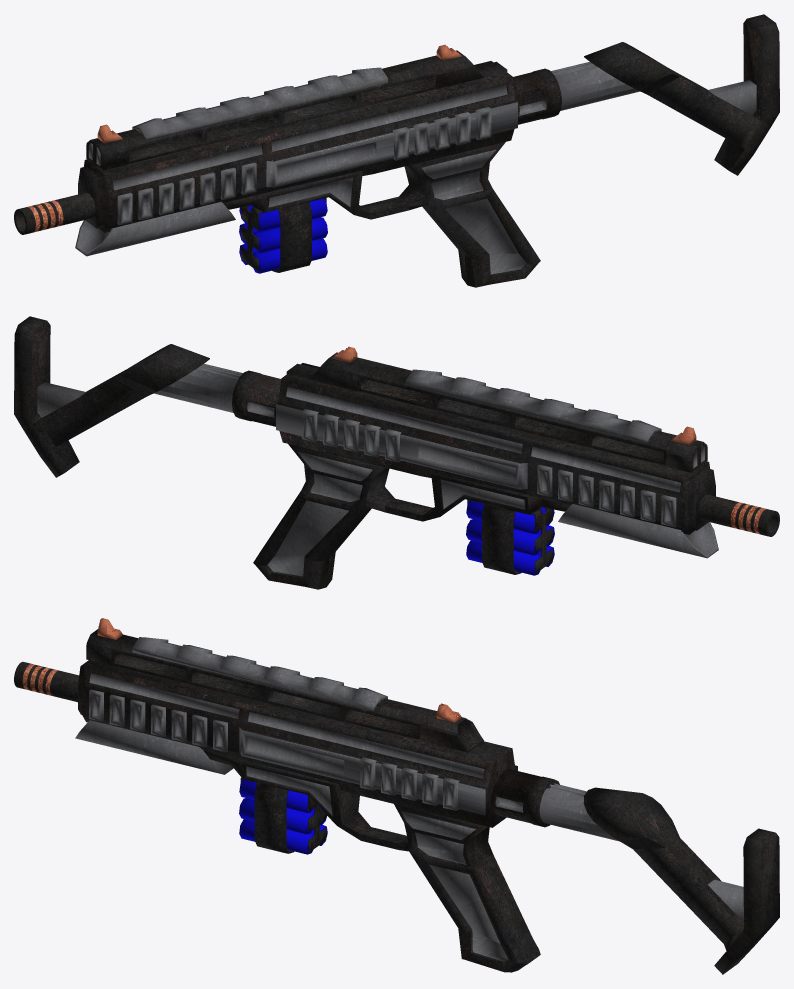
Rendered from autorifle_mid_poly.fbx.
3 views of the same model, one above another, from view 1: azimuth 30°, elevation 25°; view 2: azimuth 150°, elevation 25°; view 3: azimuth 330°, elevation 25° (orthographic).
Parts seen in each view (by area): view 1: Cube.001; view 2: Cube.001; view 3: Cube.001.
Boxes of the visible parts, bbox=[...] form: Cube.001: bbox=[14, 14, 779, 287]; Cube.001: bbox=[14, 316, 779, 589]; Cube.001: bbox=[14, 618, 779, 974].
Bounding box in the file's own units: 817 × 261 × 66.49.
4 materials, 3 textured.
